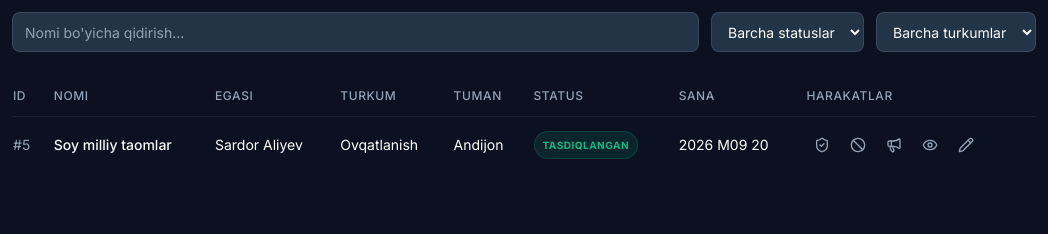
Test case: AdminBusinessesView — business operations › suspends with the entered reason
Expected: the text "Soy milliy taomlar" is shown, [54,136,172,153]
Step 1. Click the button named "To'xtatish" → (858, 145), box [842,129,874,161]
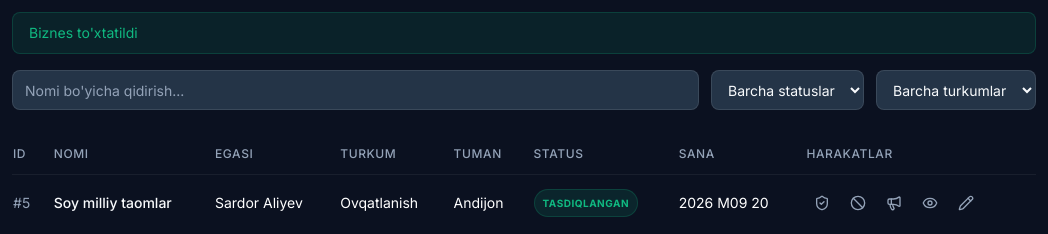
Now the text "Biznes to'xtatildi" is shown, box [12,12,1036,54]
